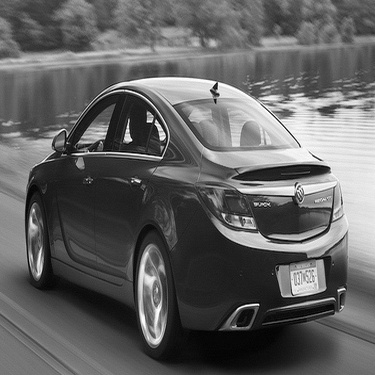car: (17, 69, 351, 364)
